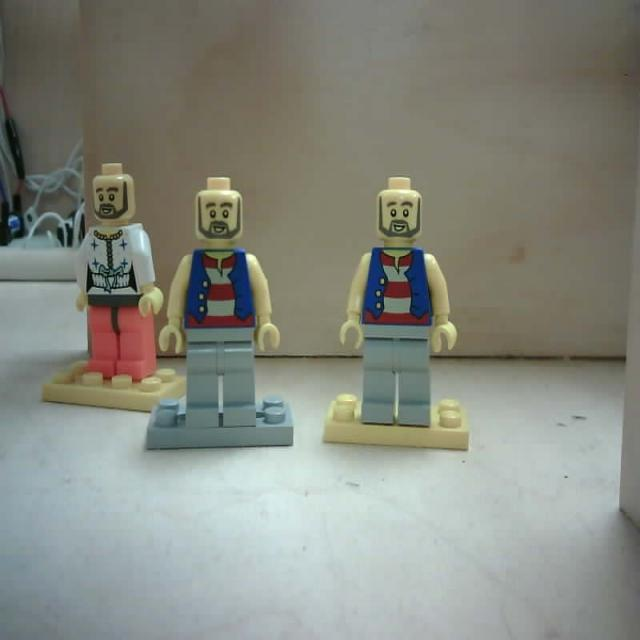Lego-People: (145, 176, 294, 457), (324, 176, 471, 452), (38, 162, 193, 413)
